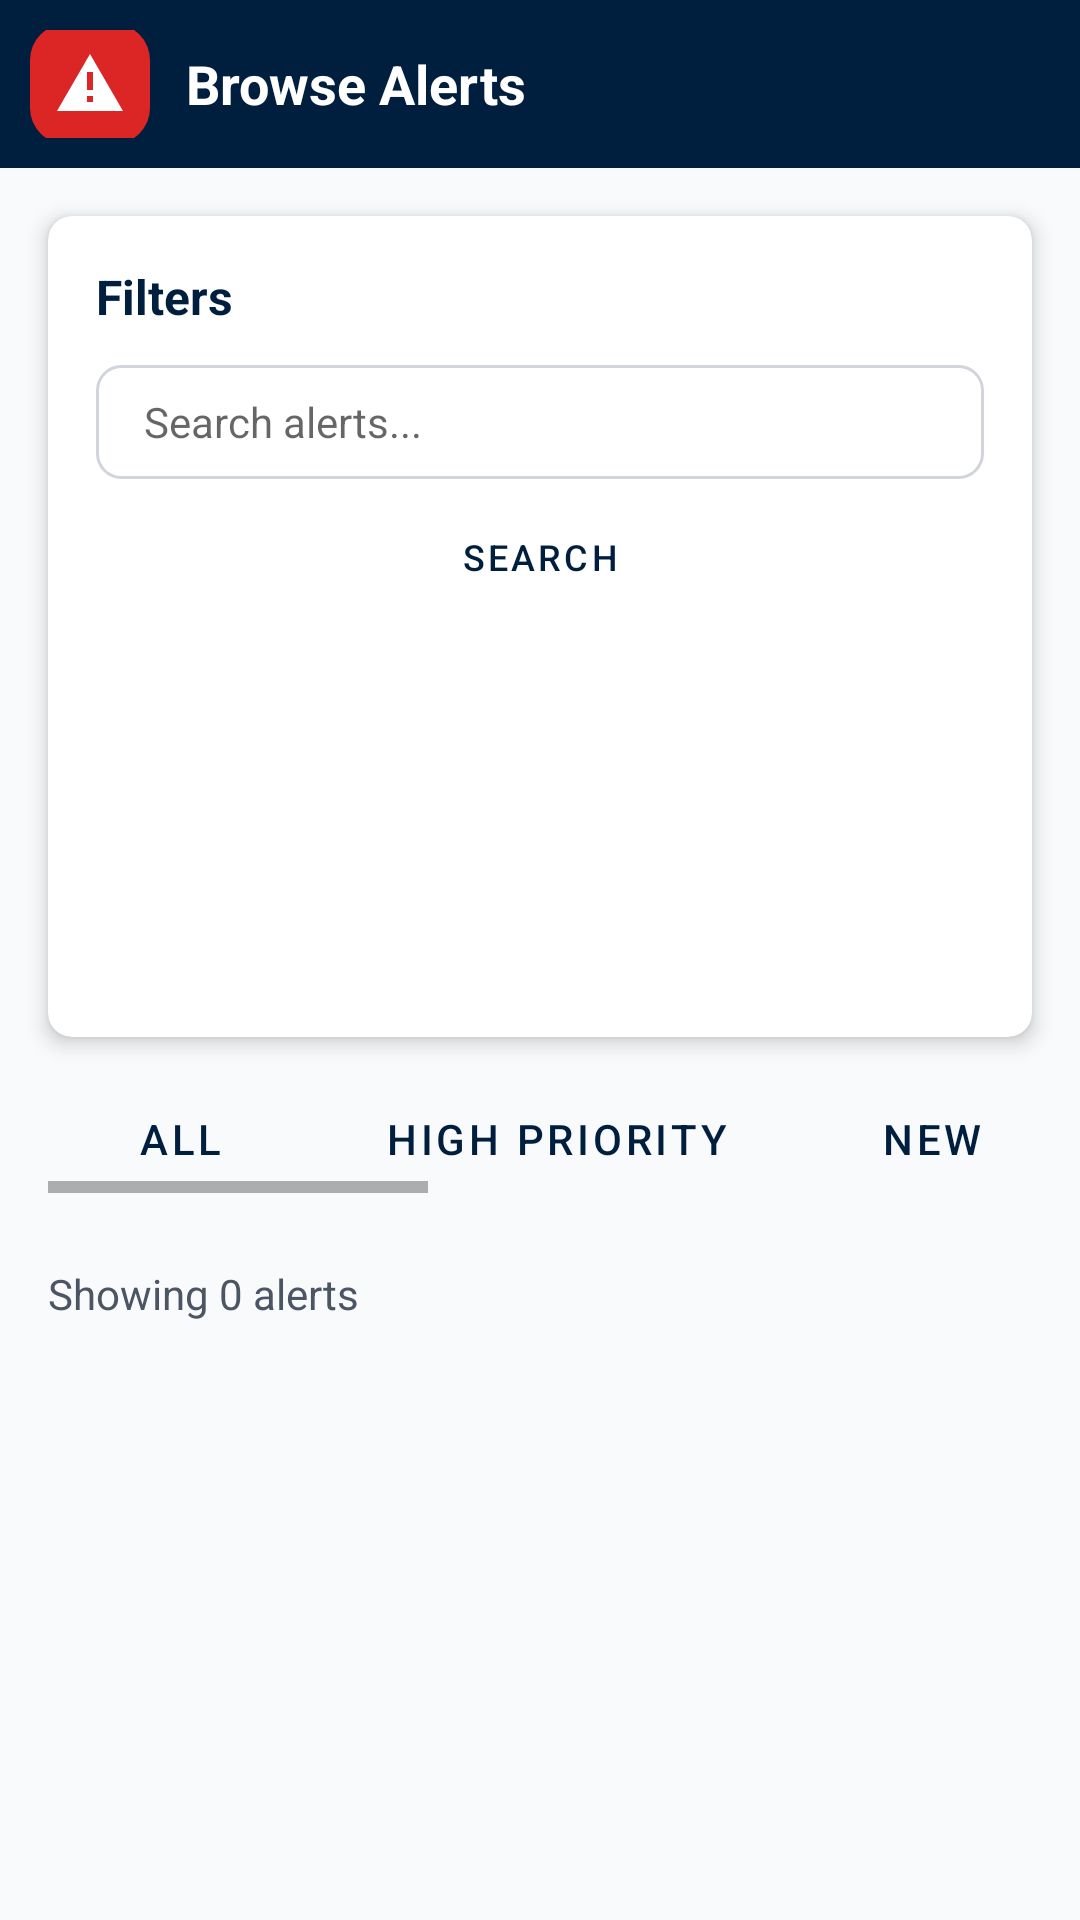

Icon bounding boxes for this 1080 x 1920 phone screenshot, format Rect(x1, y1, x2, y2):
alert triangle: Rect(57, 54, 123, 111)
